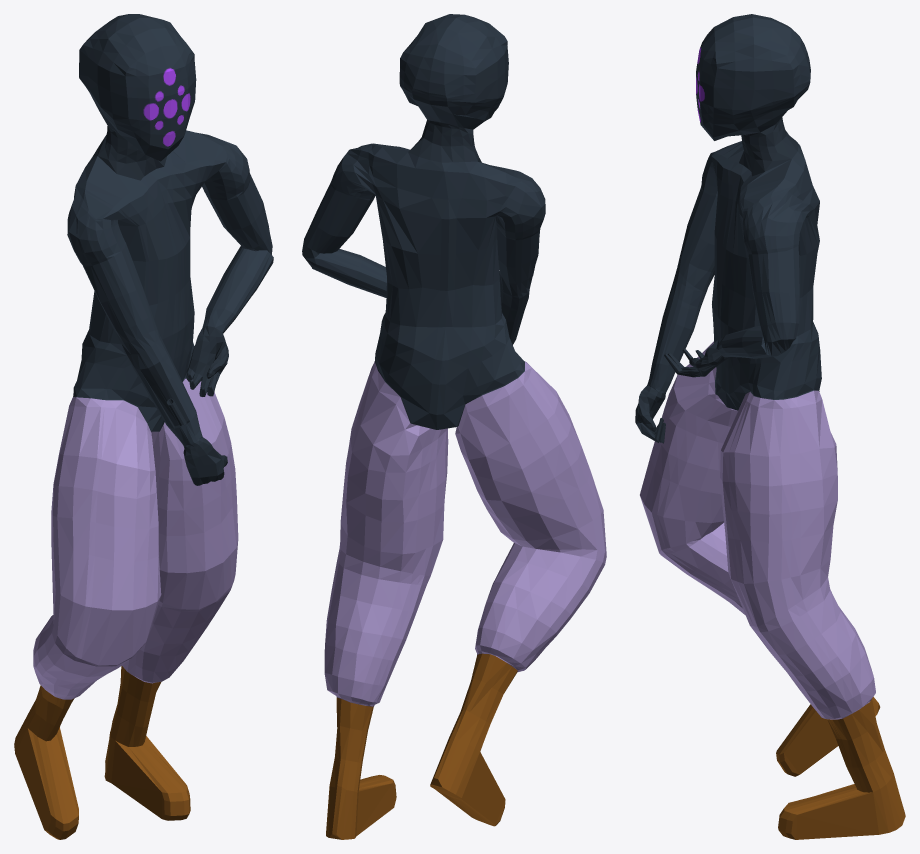
Rendered from Oracle_Run_000007.obj.
3 views of the same model, side by side, from view 1: azimuth 30°, elevation 25°; view 2: azimuth 150°, elevation 25°; view 3: azimuth 270°, elevation 25° (orthographic). The views are drawn at different scales.
Visible parts, largest first — view 1: Cube; view 2: Cube; view 3: Cube.
Boxes of the visible parts, x1=… form: Cube: x1=14, y1=14, x2=273, y2=839; Cube: x1=302, y1=14, x2=606, y2=839; Cube: x1=635, y1=14, x2=905, y2=839.
Size of the model in its own units: 1.28 by 3.84 by 1.19.
